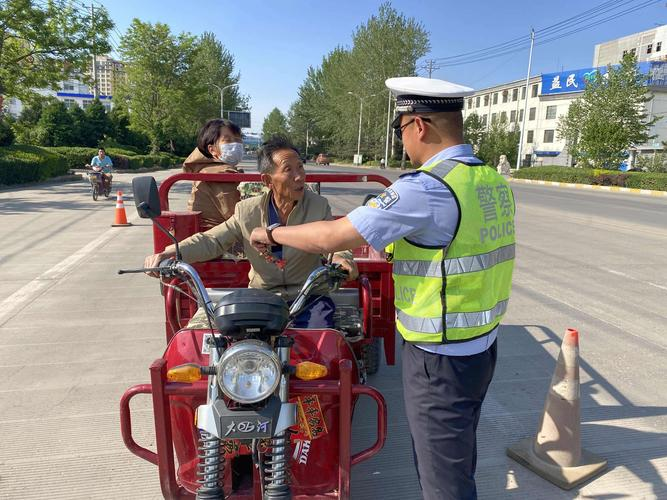driver: (230, 134, 331, 357)
overloading: (145, 119, 389, 500)
passenger: (187, 121, 241, 221)
